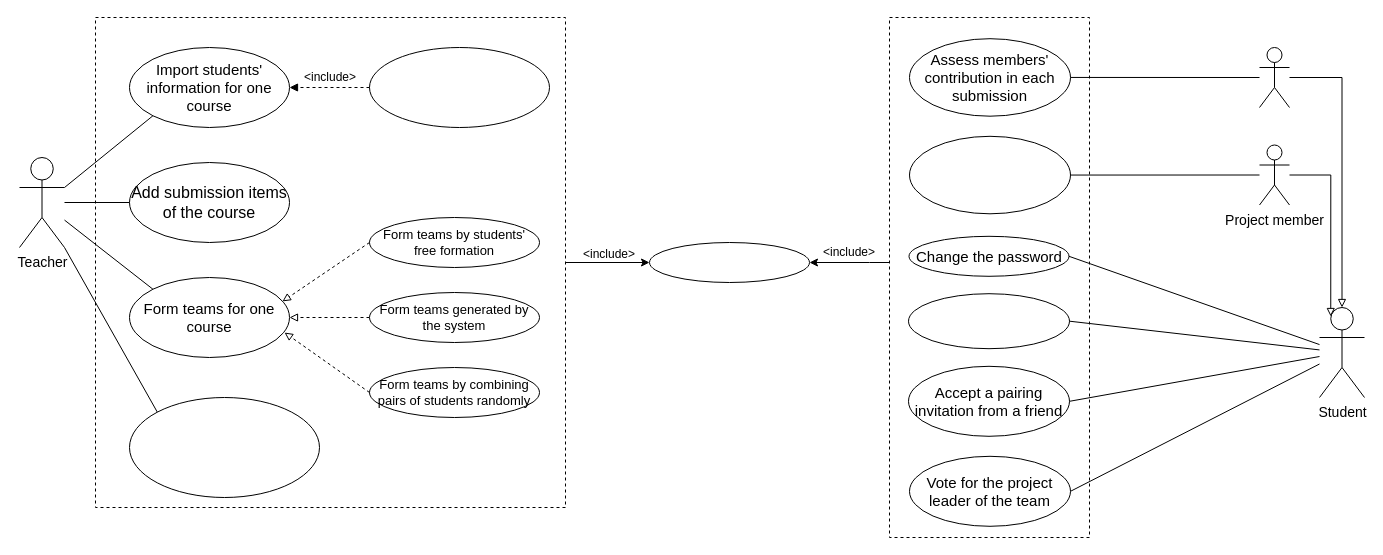
This 1383x555 diagram has some shape labels left out. The shapes that lost their labels are listed below. From the top down, each one's centre as x and y in pixels, then its label:
At (459,87): "Generate user names and initial passwords for each student".
At (1274,77): "Project leader".
At (989,174): "Give the overall assessment on the project leader".
At (729,262): "Login the system".
At (989,321): "Choose a friend to form a pair".
At (224,447): "Export contribution for each student in the class".
